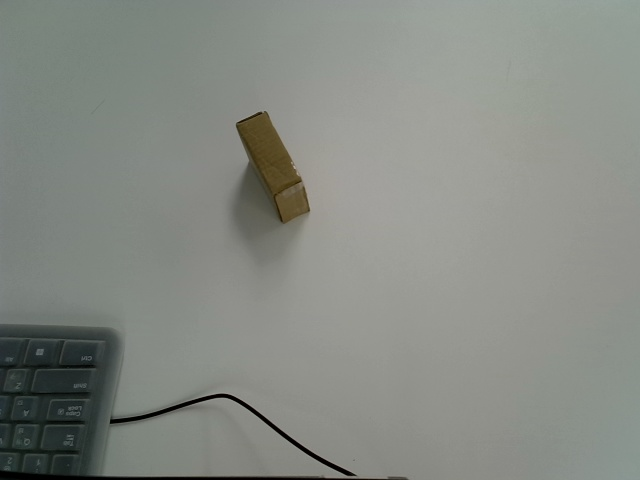normal: (236, 110, 310, 225)
